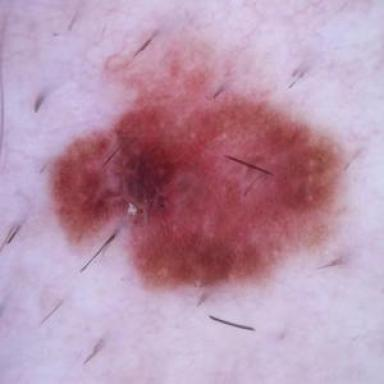Melanoma: (52, 31, 341, 285)
